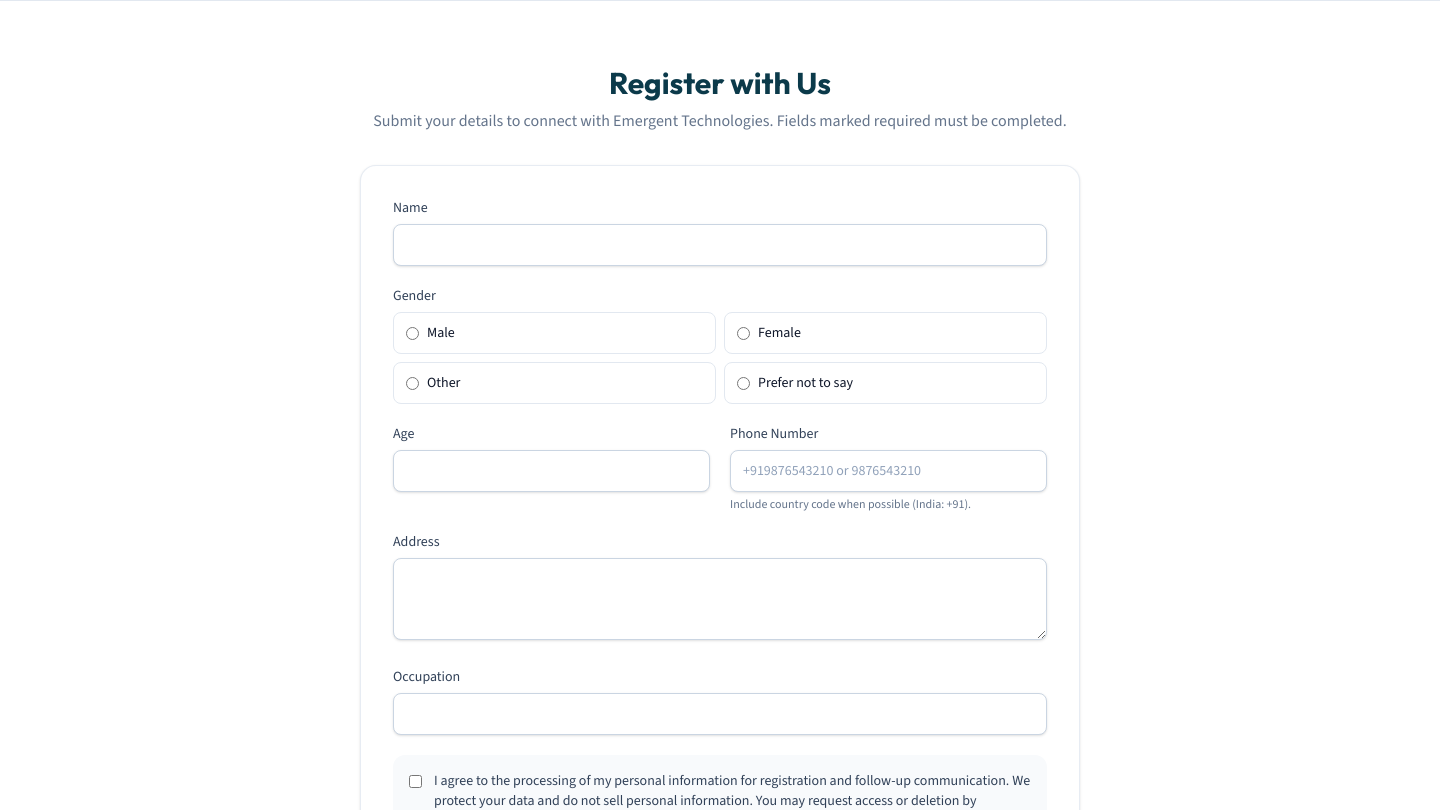
Test: RegistrationForm › shows confirmation screen with name, id, and WhatsApp share link after success
Type "Jane Doe" into the field labelled "Name" at (720, 245), box [393,224,1047,266]
Click the radio button labelled "Female" at (744, 333), box [737,326,750,340]
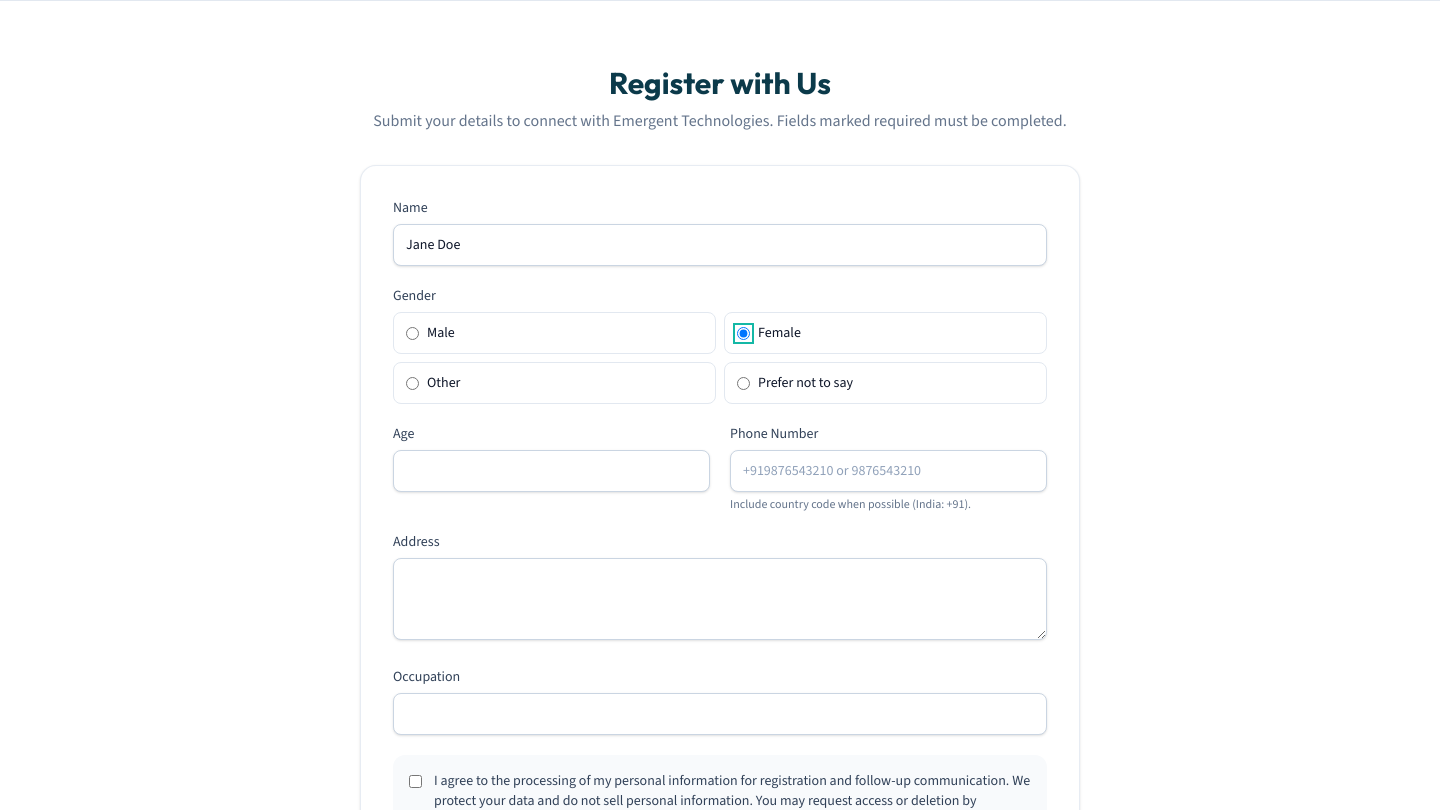
Type "30" into the number field labelled "Age" at (552, 471), box [393,450,710,492]
Type "+14155552671" into the field labelled "Phone Number" at (888, 471), box [730,450,1047,492]
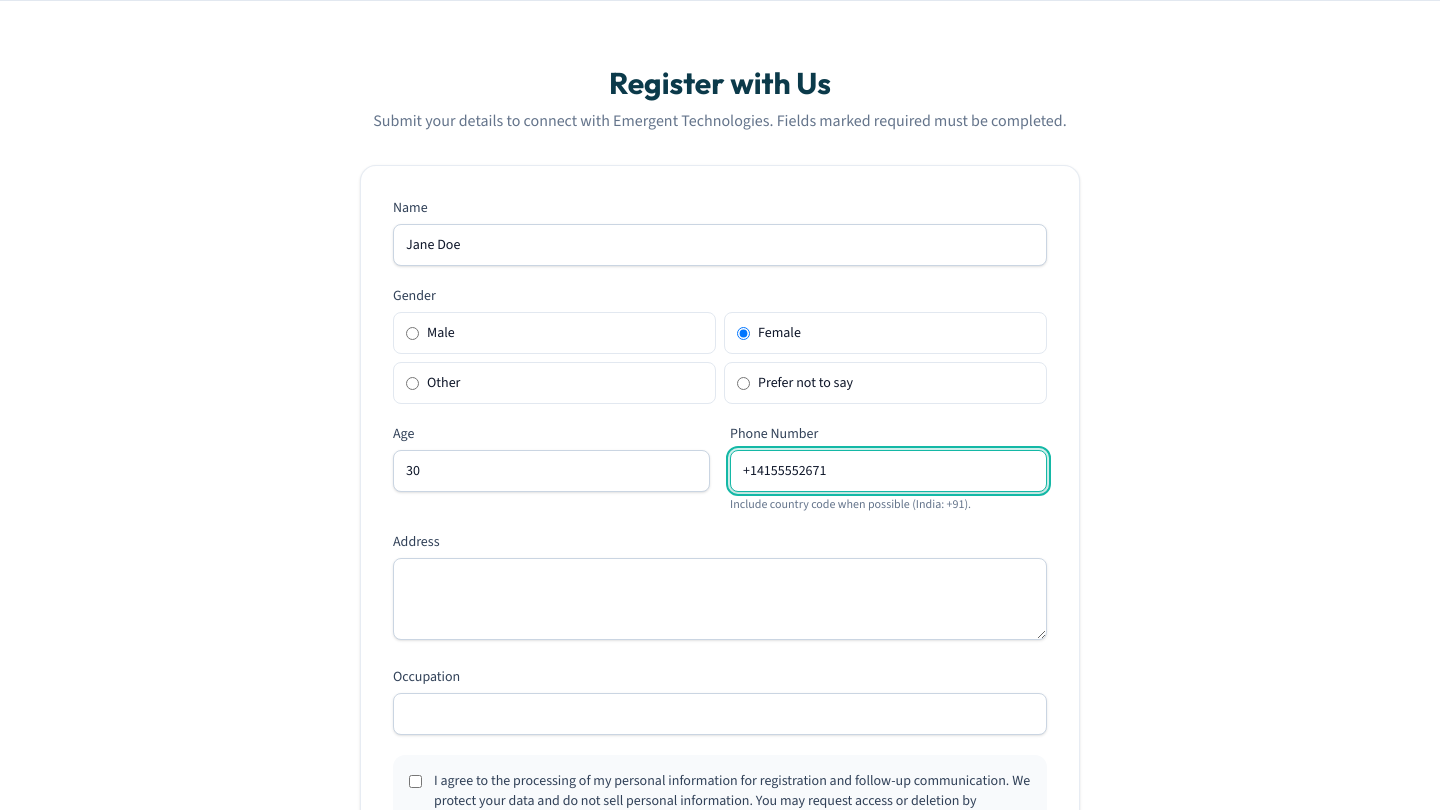
Type "123 Market Street" into the text box labelled "Address" at (720, 599), box [393,558,1047,640]
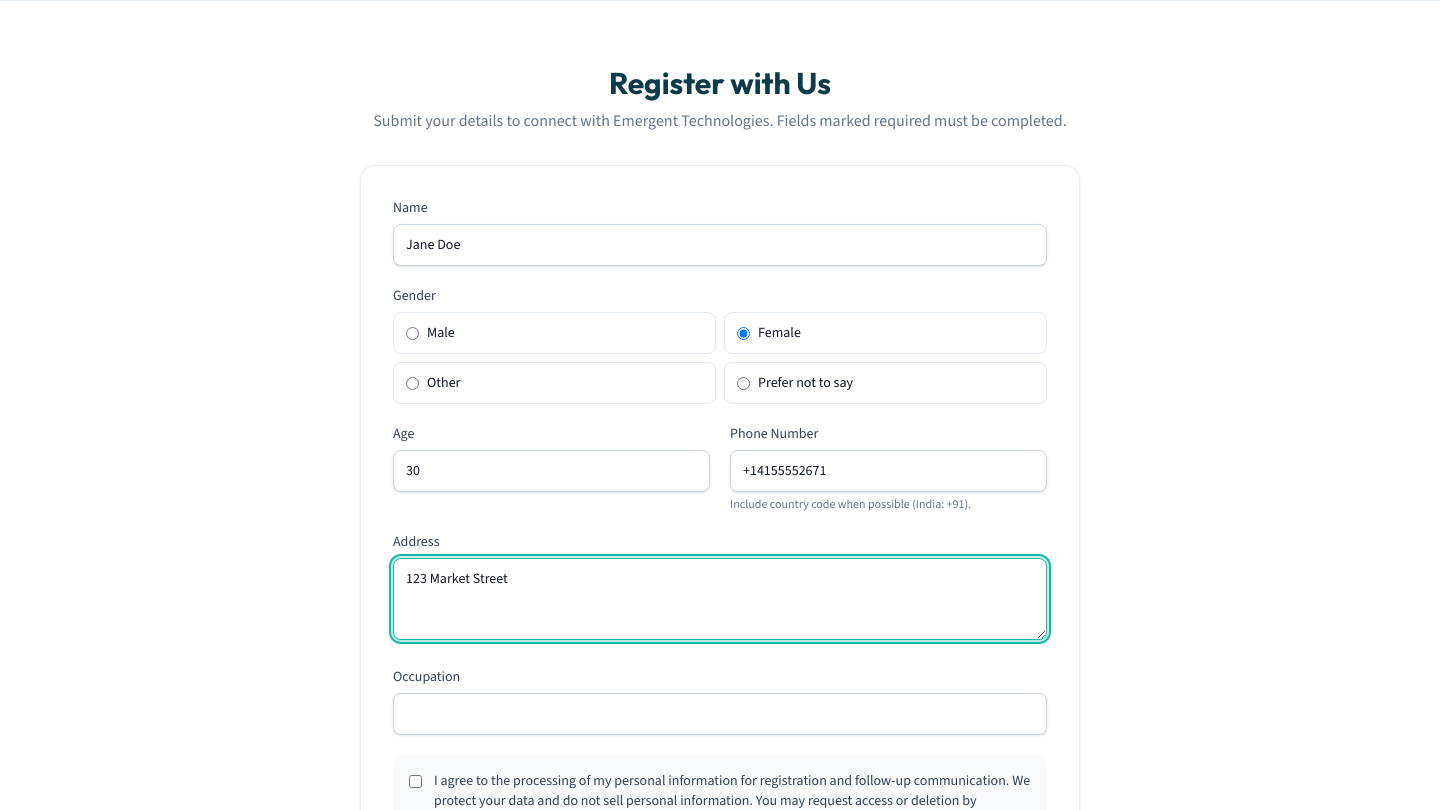
Type "Designer" into the field labelled "Occupation" at (720, 714), box [393,693,1047,735]
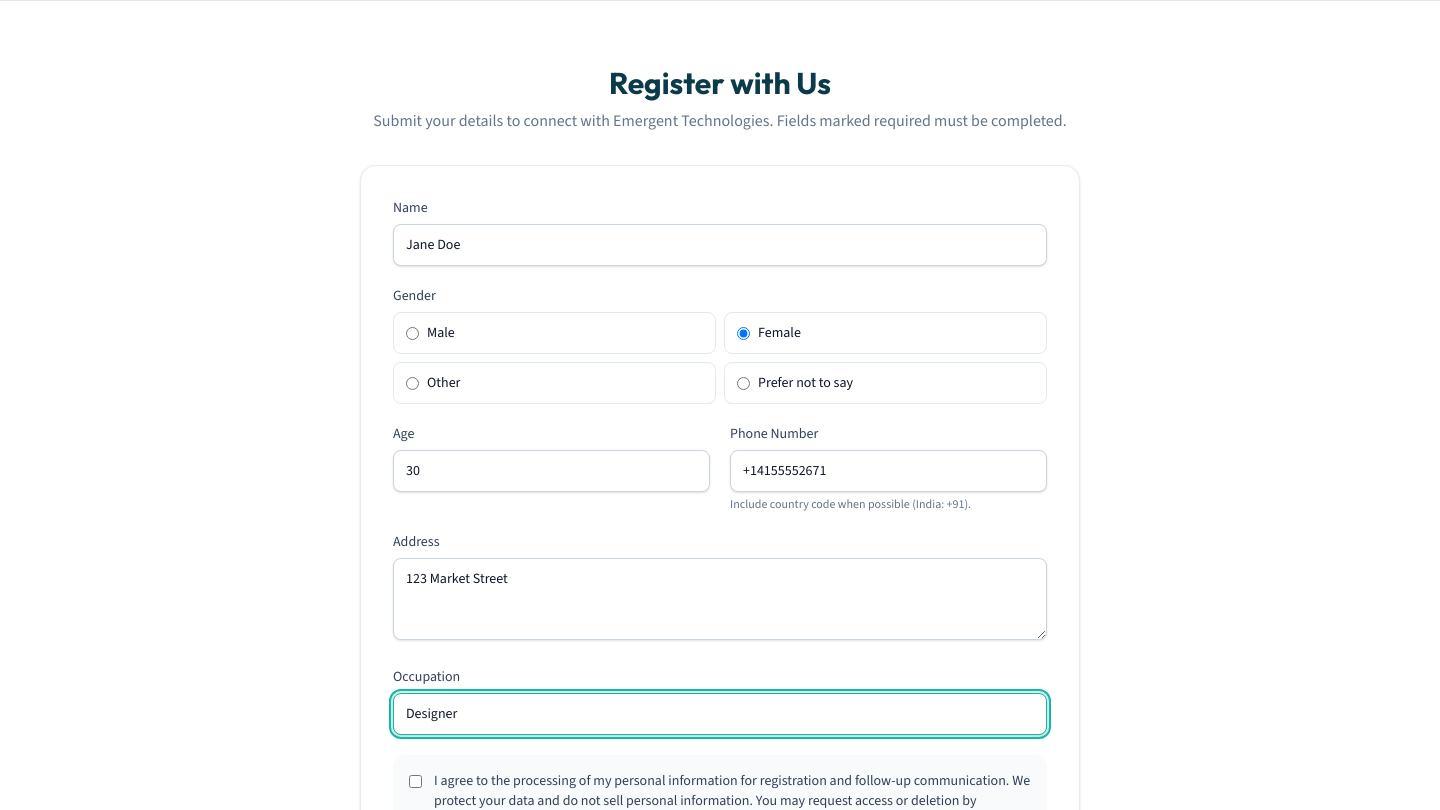
Click the checkbox at (416, 782), box [409,775,422,788]
(page scrolled)
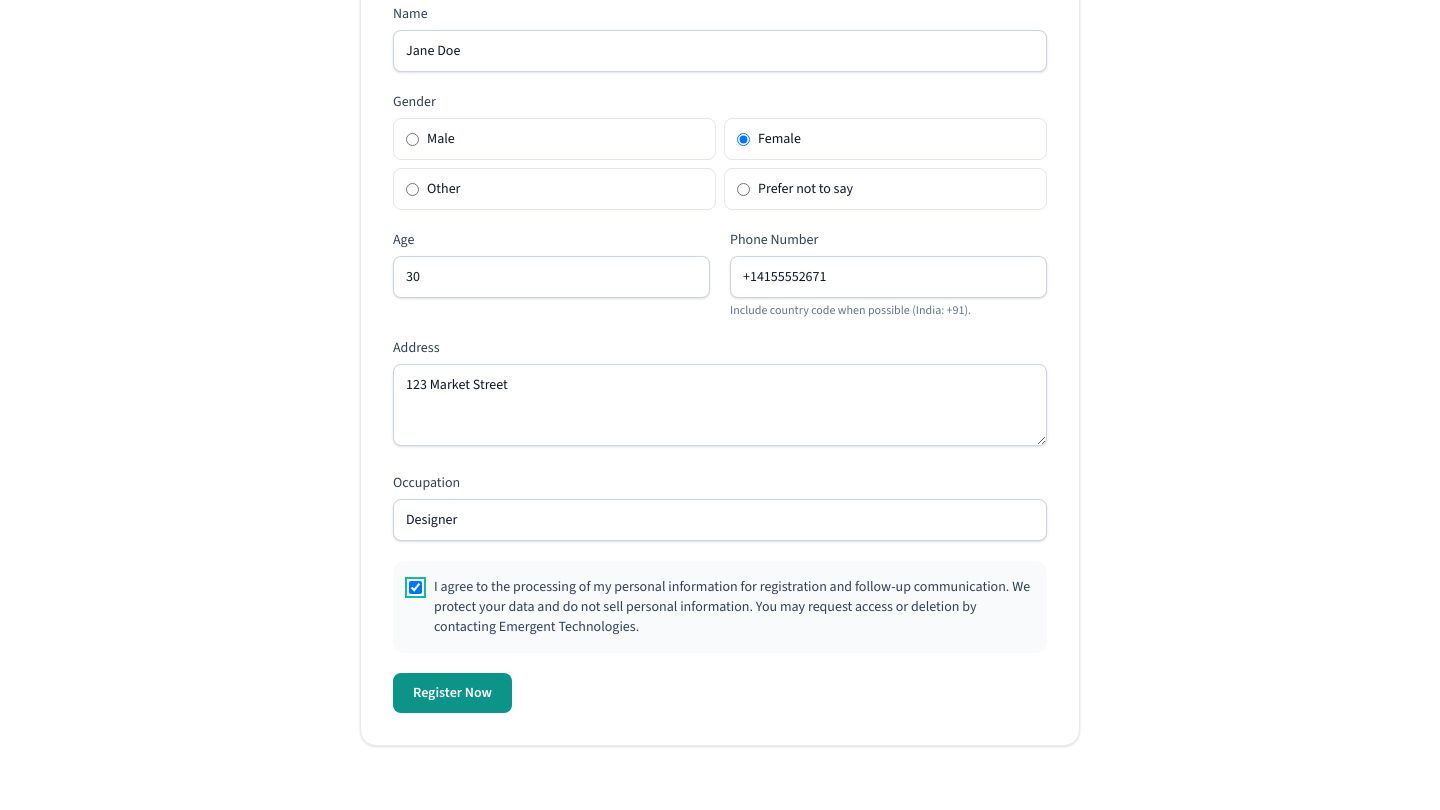
Click the button "Register Now" at (452, 693), box [393,673,512,713]
(page scrolled)
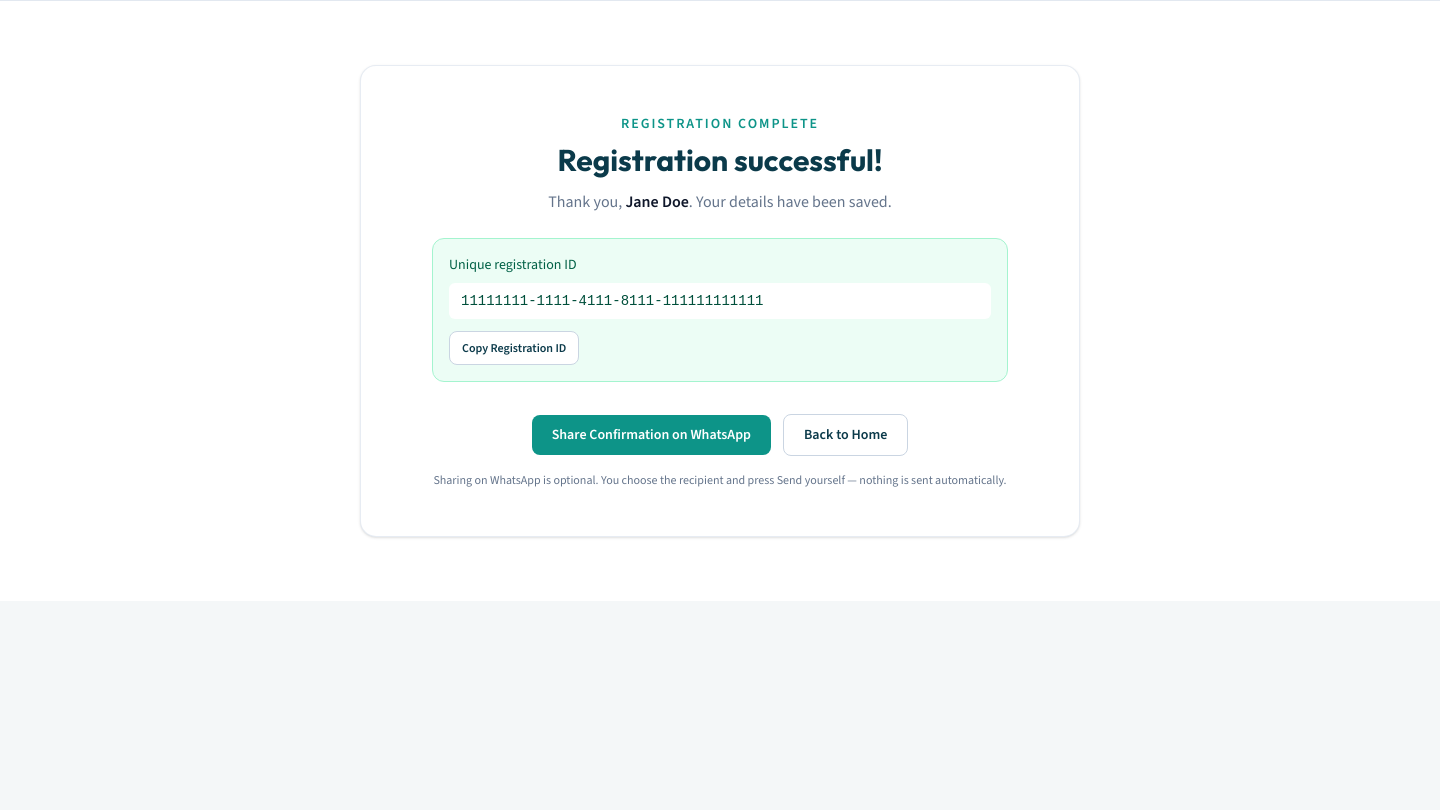
Expected: the heading "Registration successful!" is shown, [558,141,882,179]
Expected: the text "Jane Doe" is shown, [626,191,689,212]
Expected: the text "11111111-1111-4111-8111-111111111111" is shown, [449,283,991,319]
